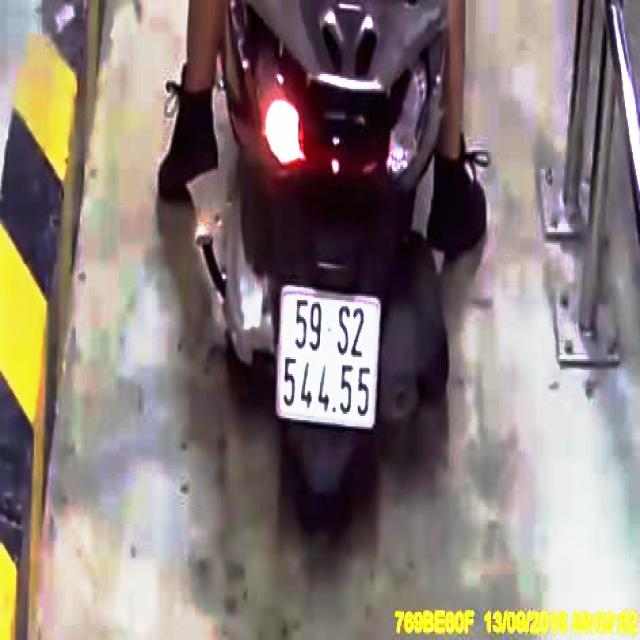license_plate: (278, 291, 378, 429)
